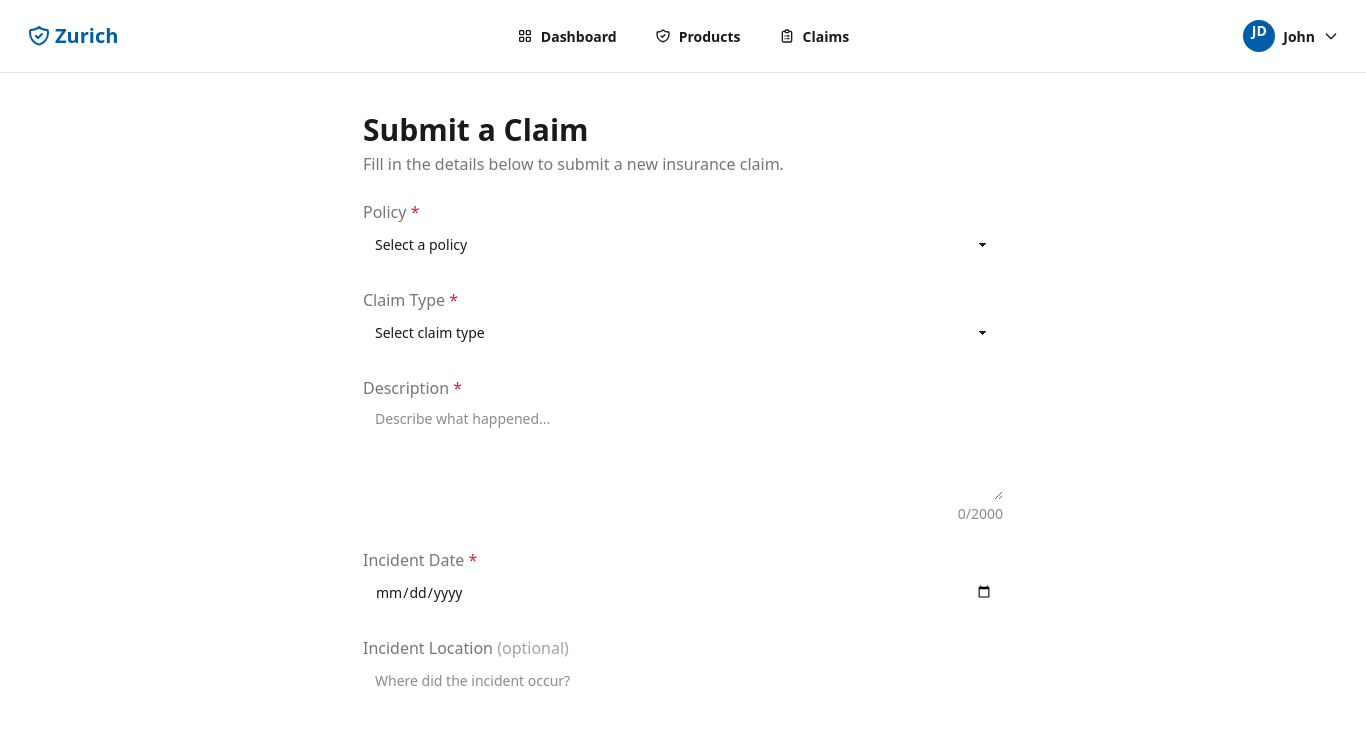
it: Submit Claim Page › shows API error alert when submission fails
Fill in form
Select "POL-2024-001 — Auto Insurance" in the dropdown labelled "Policy *" at (683, 244), box [363, 224, 1003, 264]
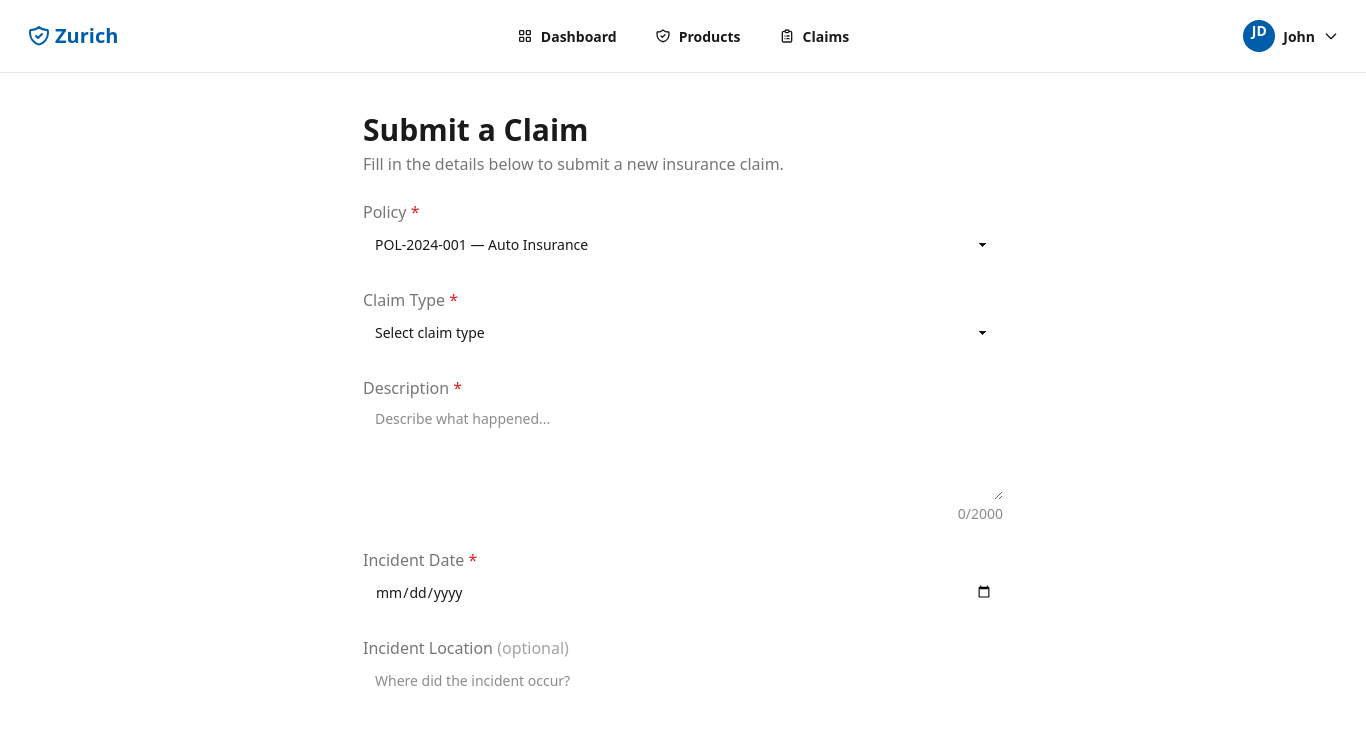
Select "Accident" in the dropdown labelled "Claim Type *" at (683, 332), box [363, 312, 1003, 352]
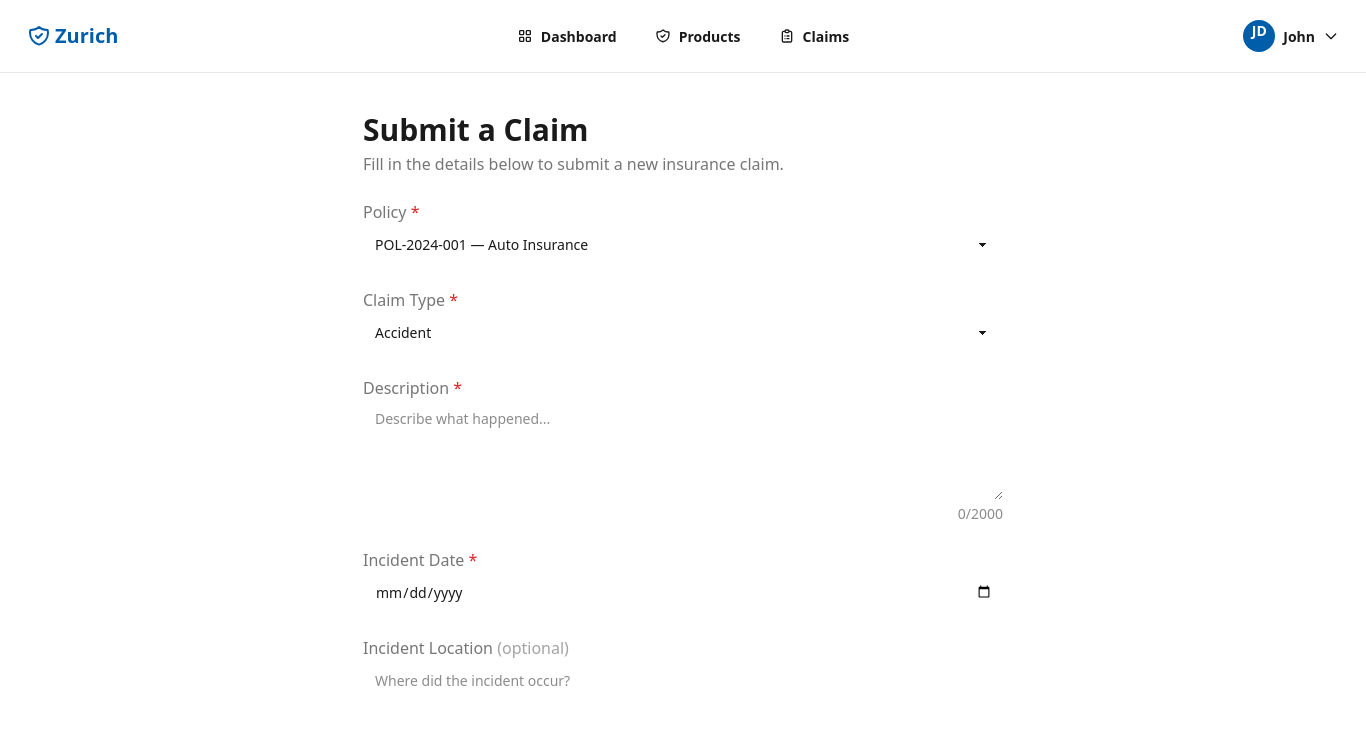
Type "Car accident on highway" into the text box labelled "Description *".
click(683, 450); type("Car accident on highway")  # box [363, 400, 1003, 500]
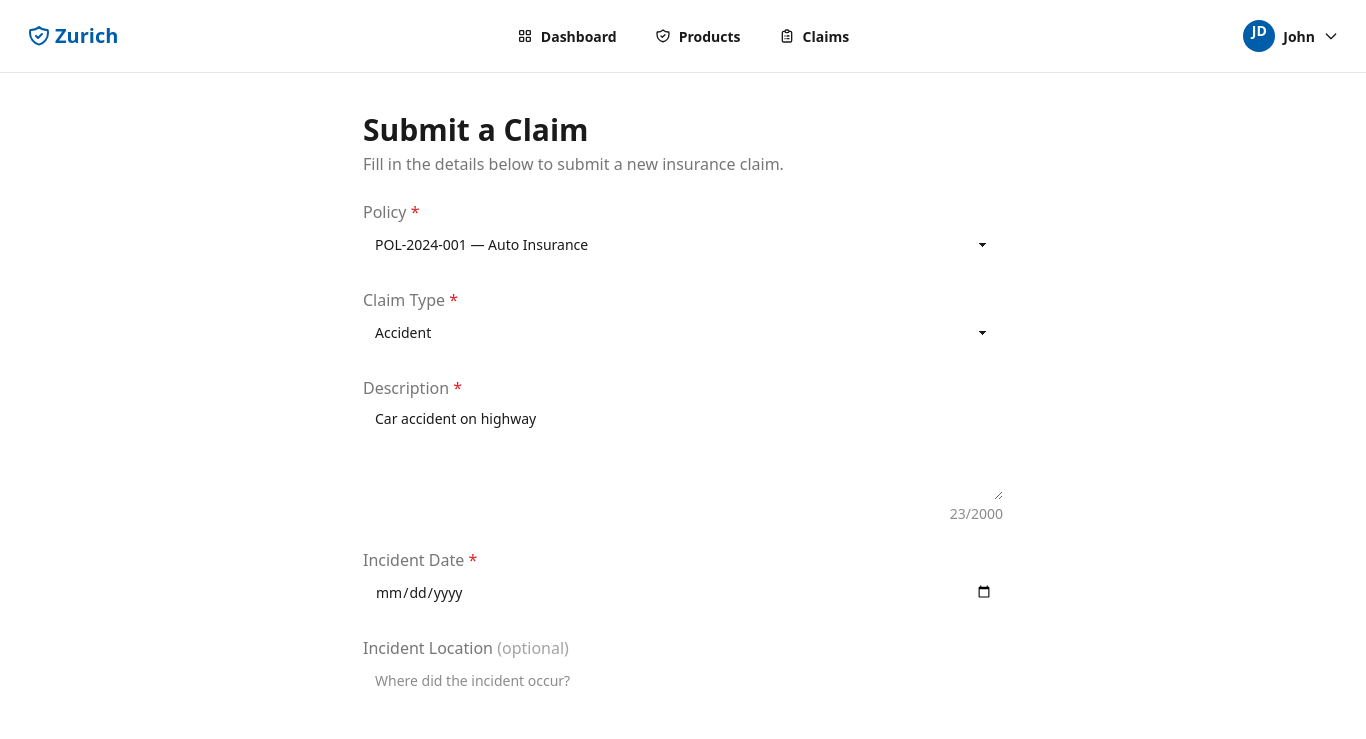
Type "2024-06-15" into the date field labelled "Incident Date *".
click(683, 592); type("2024-06-15")  # box [363, 572, 1003, 612]
(page scrolled)
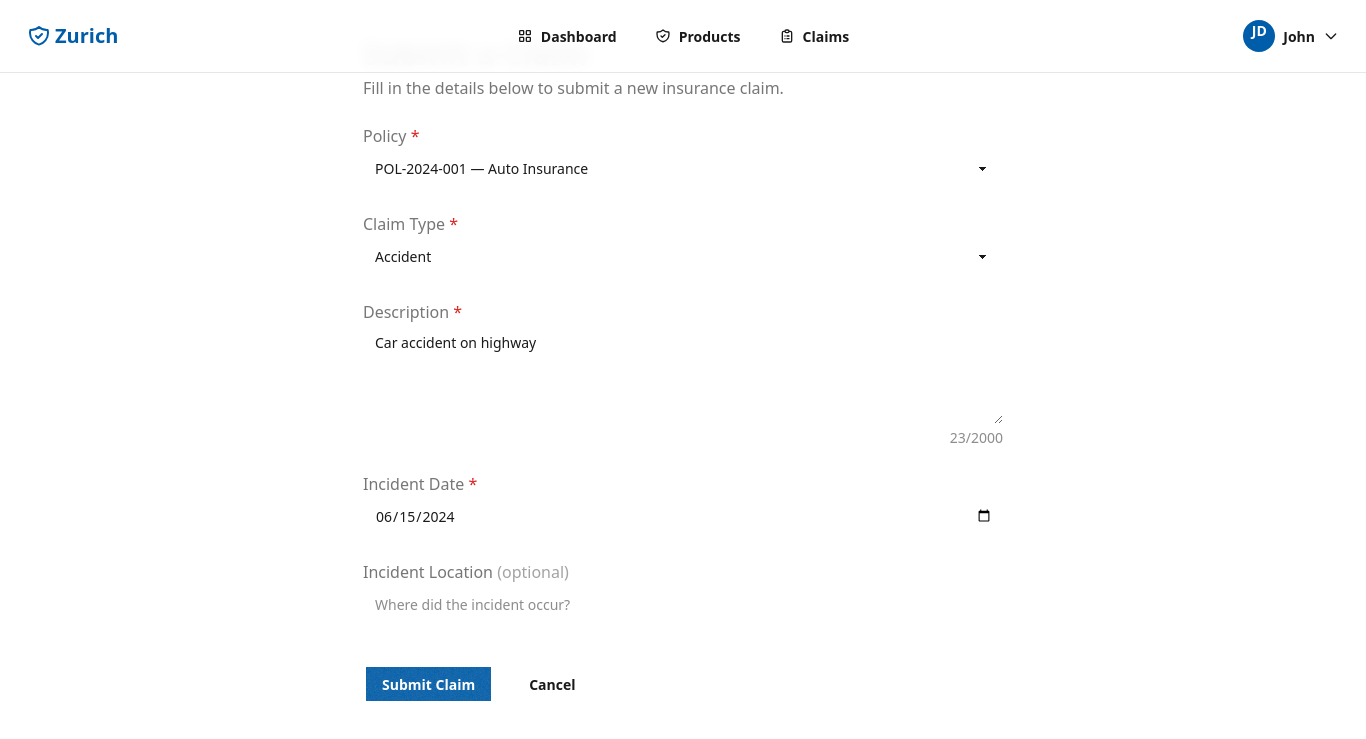
Click the button "Submit Claim".
click(429, 684)  # box [363, 664, 494, 704]
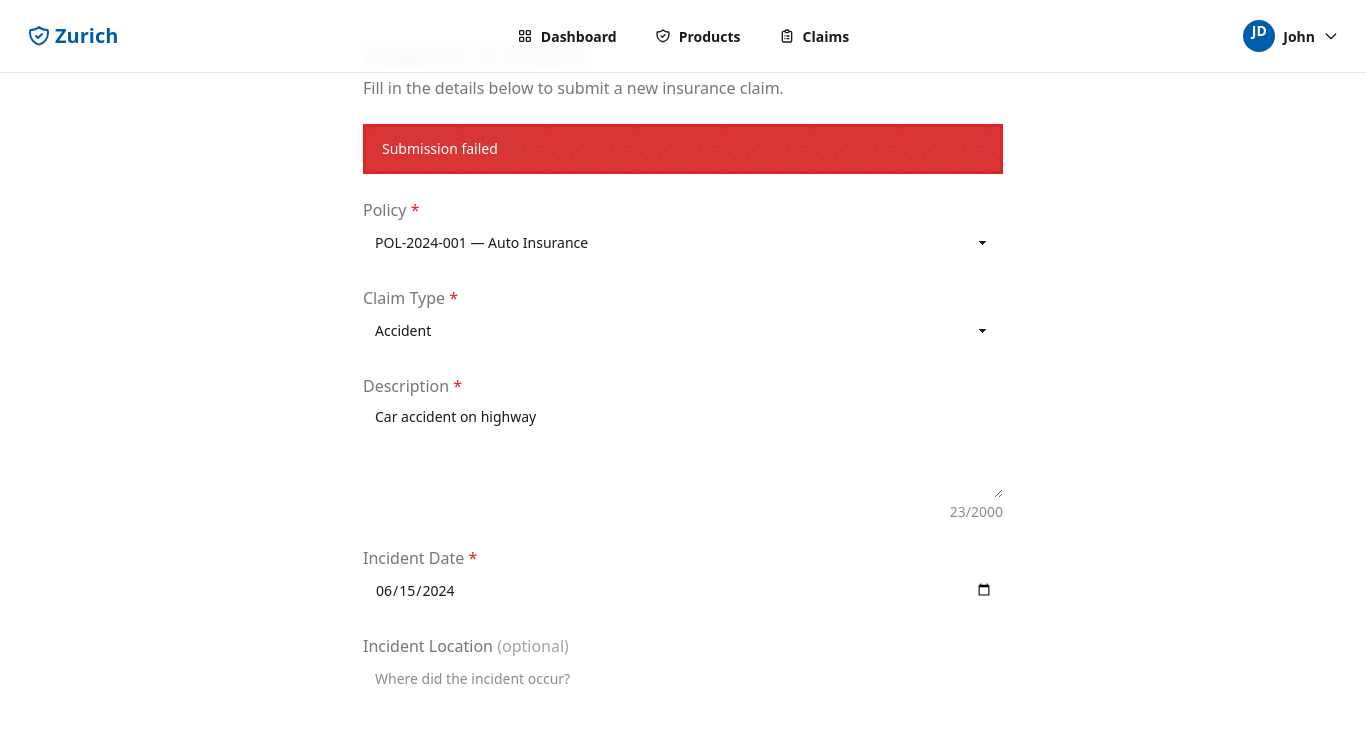
Expected: the text "Submission failed" is shown, [382, 139, 498, 159]
